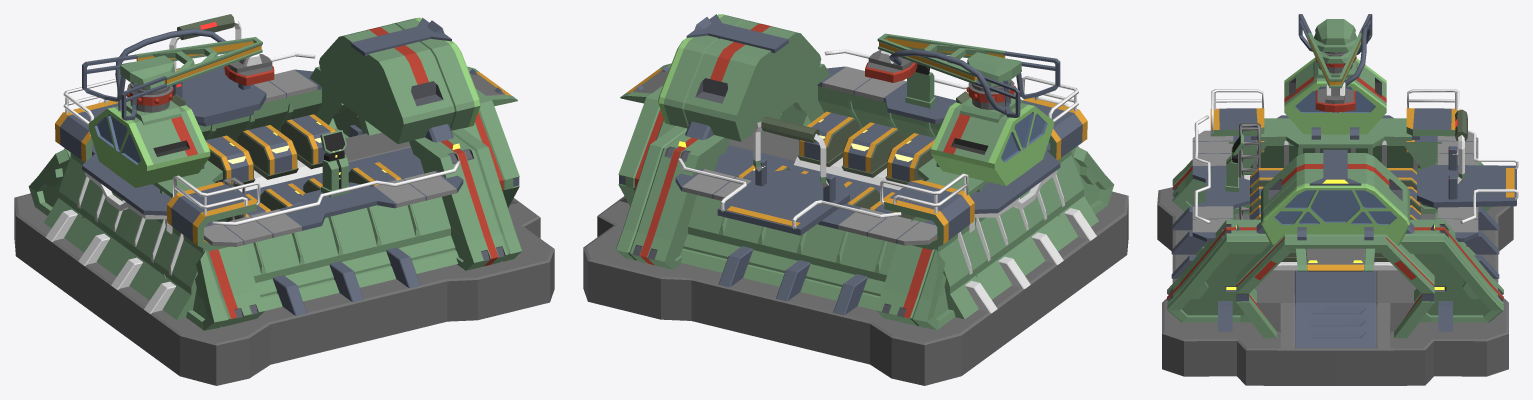
Rendered from barraks.fbx.
3 renders of one model, left to right at view 1: azimuth 30°, elevation 25°; view 2: azimuth 150°, elevation 25°; view 3: azimuth 270°, elevation 25°, orthographic. The views are drawn at different scales.
Visible parts, largest first — view 1: Plane.005, Plane.023, Plane.024, Plane.006, Plane.013, Plane.015, Plane.008, Plane.010, Plane.004, Plane.018, Plane.032, Plane.009 (+14 smaller); view 2: Plane.005, Plane.023, Plane.024, Plane.006, Plane.013, Plane.015, Plane.018, Plane.008, Plane.010, Plane.004, Plane.032, Plane.009 (+14 smaller); view 3: Plane.023, Plane.005, Plane.024, Plane.004, Plane.032, Plane.006, Plane.015, Plane.018, Plane.034, Plane.010, Plane.007, Plane.008 (+14 smaller).
Boxes of the visible parts, x1,y1,x2,y2 form: Plane.005: (28,66,522,330); Plane.023: (14,193,554,385); Plane.024: (319,17,480,144); Plane.006: (82,69,463,246); Plane.013: (205,114,401,220); Plane.015: (88,96,210,187); Plane.008: (82,37,262,120); Plane.010: (55,100,256,251); Plane.004: (349,66,519,207); Plane.018: (176,64,266,123); Plane.032: (245,132,518,204); Plane.009: (272,247,420,315); Plane.005: (616,63,1114,329); Plane.023: (583,191,1128,385); Plane.024: (658,14,821,141); Plane.006: (675,66,1060,245); Plane.013: (738,111,935,219); Plane.015: (931,93,1053,185); Plane.018: (717,170,849,235); Plane.008: (877,33,1060,117); Plane.010: (884,97,1087,249); Plane.004: (618,63,781,206); Plane.032: (620,131,898,202); Plane.009: (718,246,867,315); Plane.023: (1157,187,1513,385); Plane.005: (1167,140,1503,322); Plane.024: (1261,153,1409,245); Plane.004: (1218,227,1452,338); Plane.032: (1254,270,1416,348); Plane.006: (1192,115,1478,241); Plane.015: (1284,57,1386,134); Plane.018: (1417,164,1516,207); Plane.034: (1295,305,1376,348); Plane.010: (1210,108,1460,152); Plane.007: (1261,118,1412,155); Plane.008: (1298,14,1372,88).
Bounding box in the file's own units: 357 × 214 × 319.
